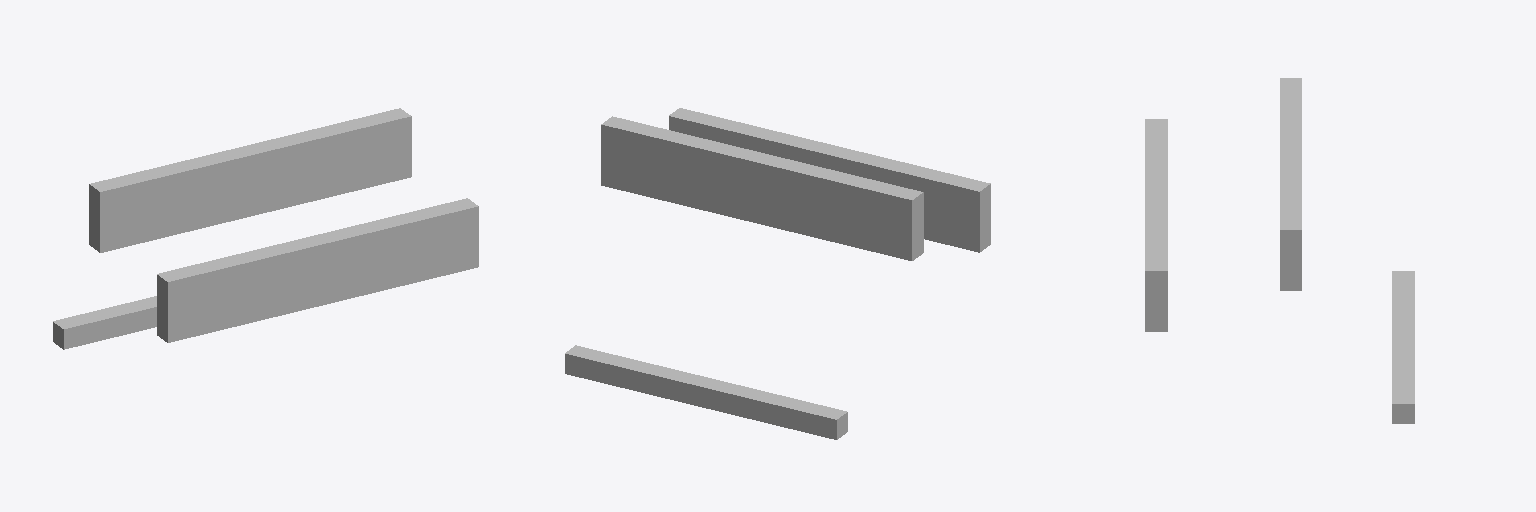
The model's file is loom_2.obj.
The picture shows the model from 3 angles: view 1: azimuth 30°, elevation 25°; view 2: azimuth 150°, elevation 25°; view 3: azimuth 270°, elevation 25°; orthographic projection.
Parts seen in each view (by area): view 1: node_0_0_0; view 2: node_0_0_0; view 3: node_0_0_0.
Part boxes in pixels (bbox=[...]): node_0_0_0: bbox=[53, 108, 478, 349]; node_0_0_0: bbox=[565, 108, 990, 439]; node_0_0_0: bbox=[1145, 78, 1414, 423].
Bounding box in the file's own units: 1 × 0.625 × 0.75.